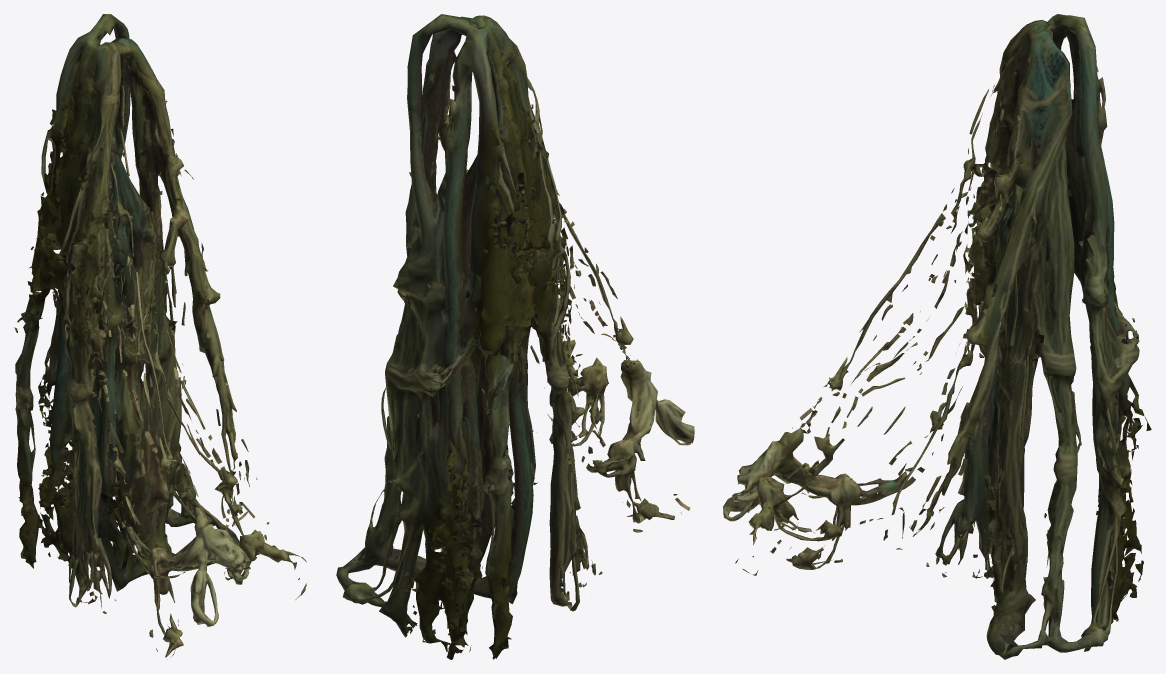
The model's file is Netz Fischer v20.glb.
3 views of the same model, side by side, from view 1: azimuth 30°, elevation 25°; view 2: azimuth 150°, elevation 25°; view 3: azimuth 270°, elevation 25° (orthographic). The views are drawn at different scales.
Visible parts, largest first — view 1: Mesh0; view 2: Mesh0; view 3: Mesh0.
Boxes of the visible parts, <box> form: Mesh0: <box>14,14,306,659</box>; Mesh0: <box>336,14,694,659</box>; Mesh0: <box>723,14,1151,659</box>.
Size of the model in its own units: 0.6637 by 1.95 by 1.23.
1 material, 1 textured.
